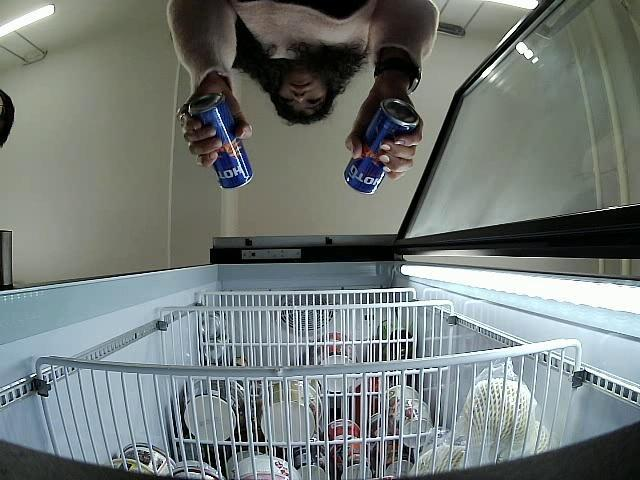16_hot6: (344, 98, 421, 193), (188, 94, 252, 190)
